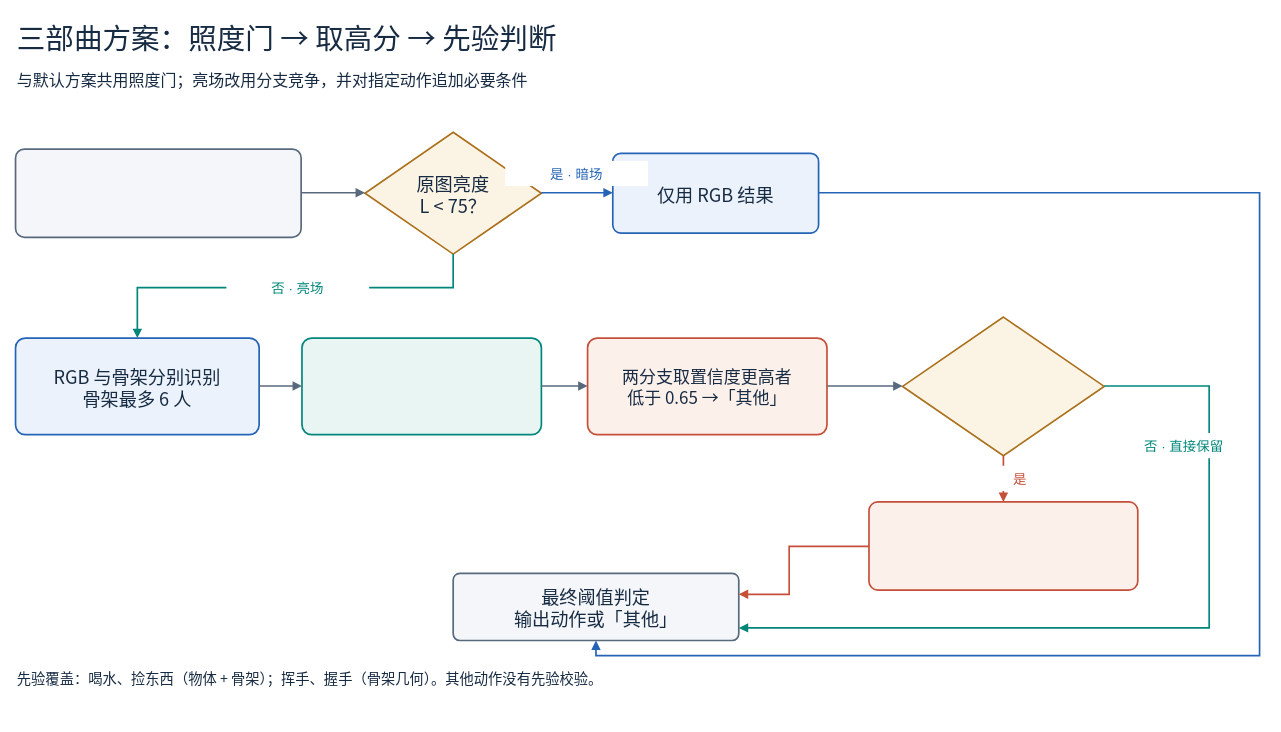
Image size: 1281x732. Some labels were removed from this diagram. The shapes that lost their labels are listed below. From the top down, each one's box as (x1, y1, x2, y2) in pixels, then its label:
(14, 148, 302, 238): 视频输入 → 记录原图亮度 → 增强 最近 1 秒采样为 32 帧
(301, 337, 542, 435): 骨架取最高合格候选 非「其他」且分数 >0.65 无候选则沿用 RGB
(901, 316, 1105, 456): 属于需要 先验的动作？
(868, 501, 1138, 591): 物体 / 骨架先验 满足：保留动作 不满足：改为「其他」
